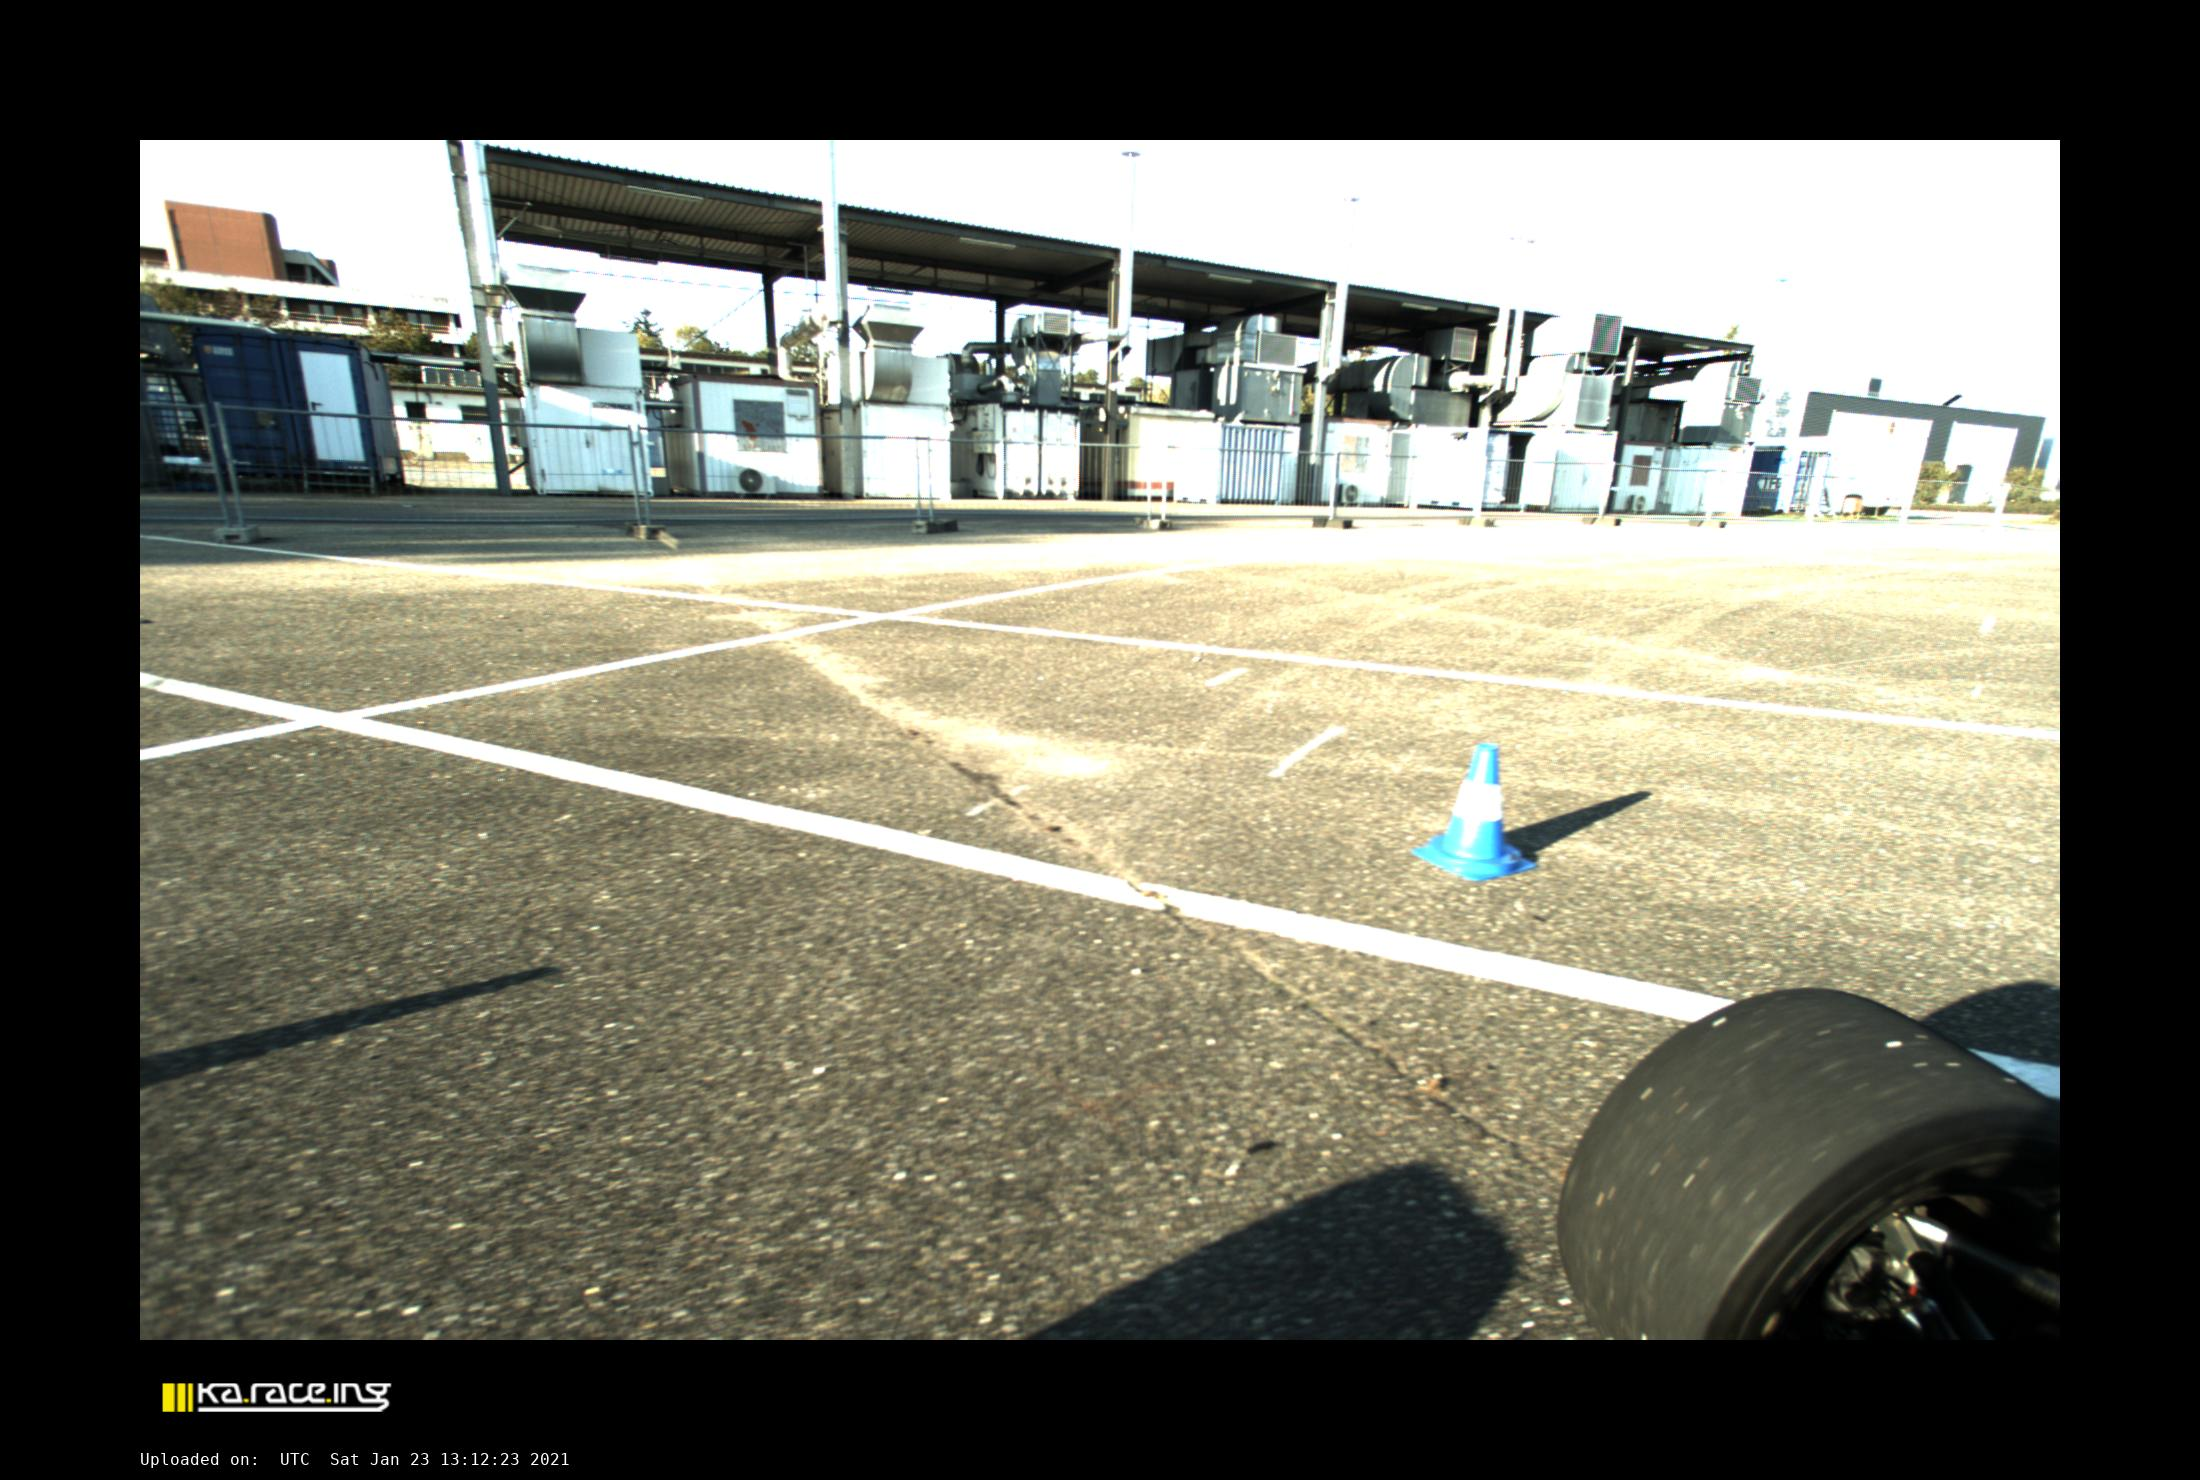blue_cone: (1411, 743, 1534, 880)
